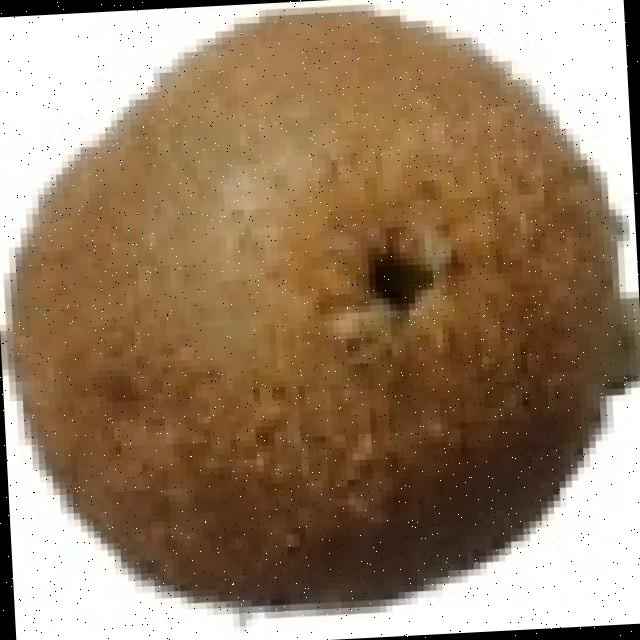kiwi: (15, 15, 640, 608)
